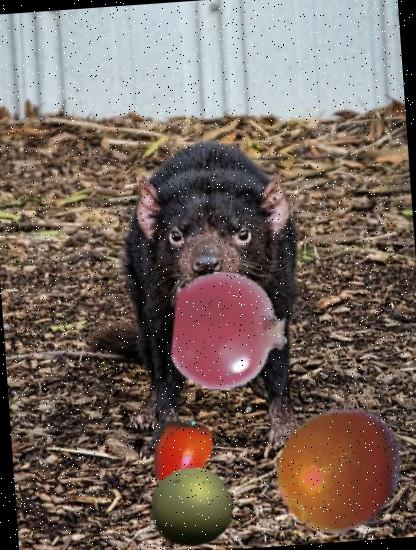Apple: (145, 458, 241, 550)
Kaki: (139, 415, 219, 495)
Redcurrant: (166, 268, 292, 394)
Tangelo: (270, 401, 412, 542)
